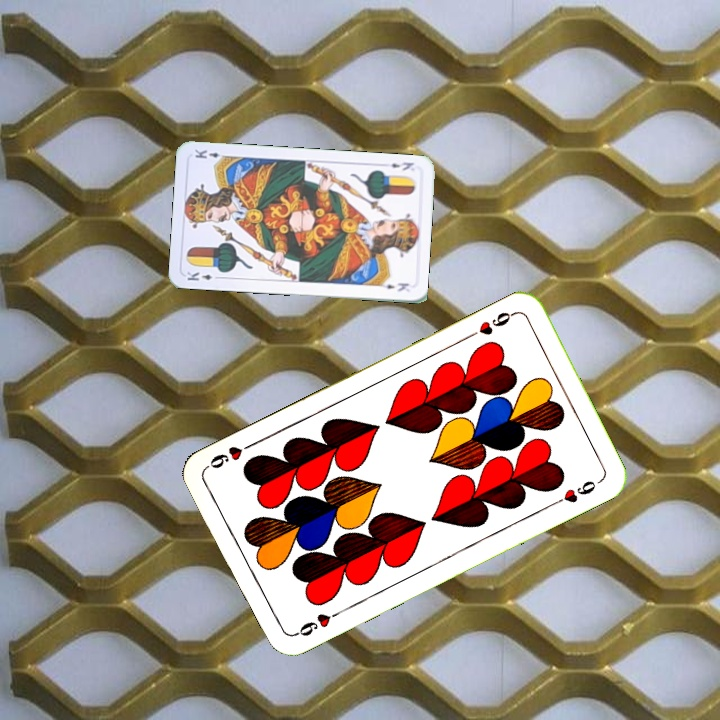EK: (183, 268, 223, 283), (387, 158, 416, 173)
H9: (464, 307, 519, 341), (289, 606, 344, 639)
